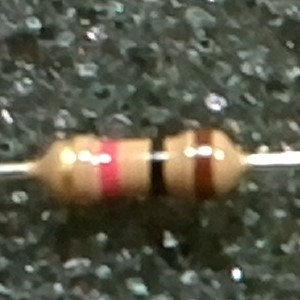black_band: (147, 133, 169, 198)
brown_band: (191, 127, 217, 202)
gold_band: (59, 135, 83, 204)
red_band: (97, 136, 124, 202)
